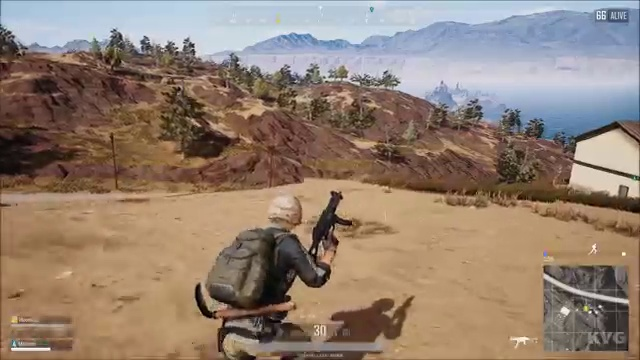Player: (185, 182, 378, 315)
